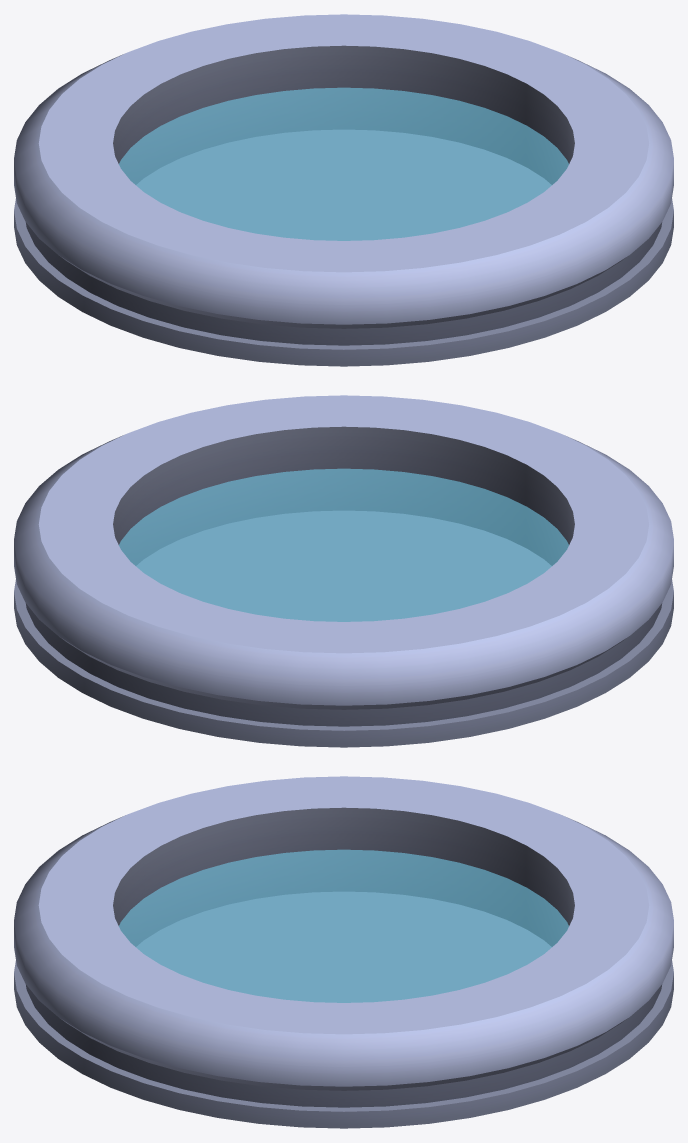
The model's file is fountain.glb.
The picture shows the model from 3 angles, top to bottom: view 1: azimuth 30°, elevation 25°; view 2: azimuth 150°, elevation 25°; view 3: azimuth 270°, elevation 25°; orthographic projection.
Parts seen in each view (by area): view 1: fountain-round, (%ignore); view 2: fountain-round, (%ignore); view 3: fountain-round, (%ignore).
Part boxes in pixels (x1,y1,x2,y2): fountain-round: (14,14,673,366); (%ignore): (119,87,568,240); fountain-round: (14,395,673,747); (%ignore): (119,468,568,621); fountain-round: (14,776,673,1128); (%ignore): (119,849,568,1002).
Bounding box in the file's own units: 2 × 0.28 × 2.
Materials: 2 (1 with a texture image).
